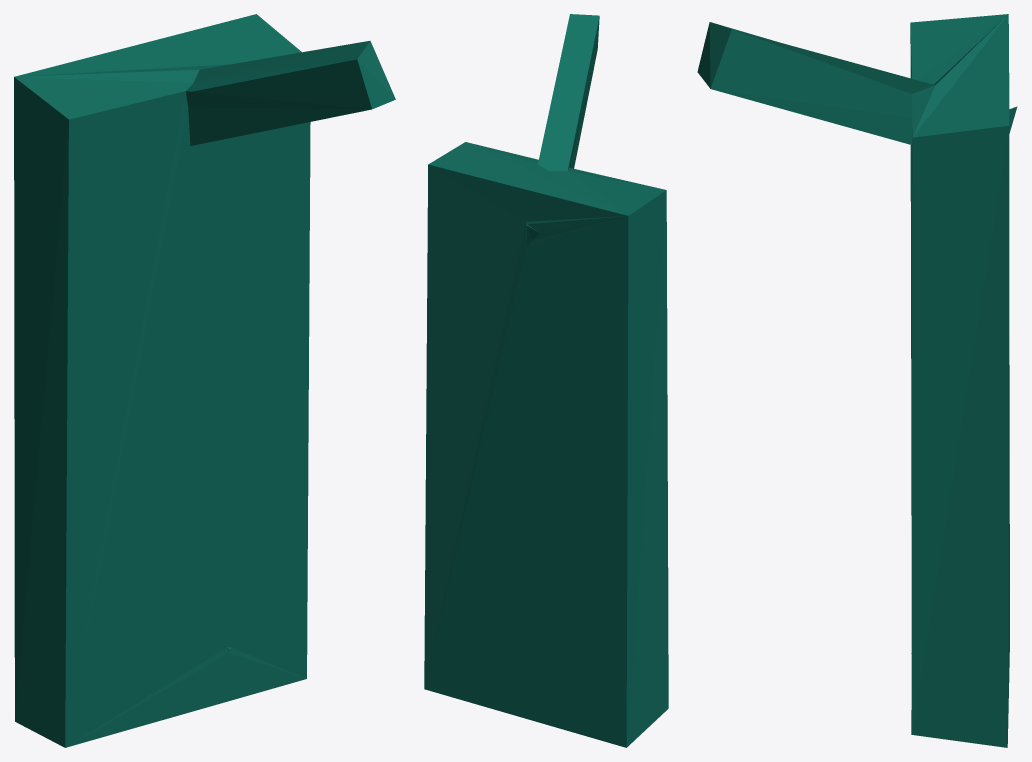
3 renders of one model, left to right at view 1: azimuth 30°, elevation 25°; view 2: azimuth 150°, elevation 25°; view 3: azimuth 270°, elevation 25°, orthographic. The views are drawn at different scales.
Visible parts, largest first — view 1: 840_Cube.3391; view 2: 840_Cube.3391; view 3: 840_Cube.3391.
Part boxes in pixels (x1=…): 840_Cube.3391: x1=14, y1=14, x2=395, y2=747; 840_Cube.3391: x1=424, y1=14, x2=668, y2=747; 840_Cube.3391: x1=697, y1=14, x2=1017, y2=747.
Size of the model in its own units: 4.92 by 13.91 by 5.66.
